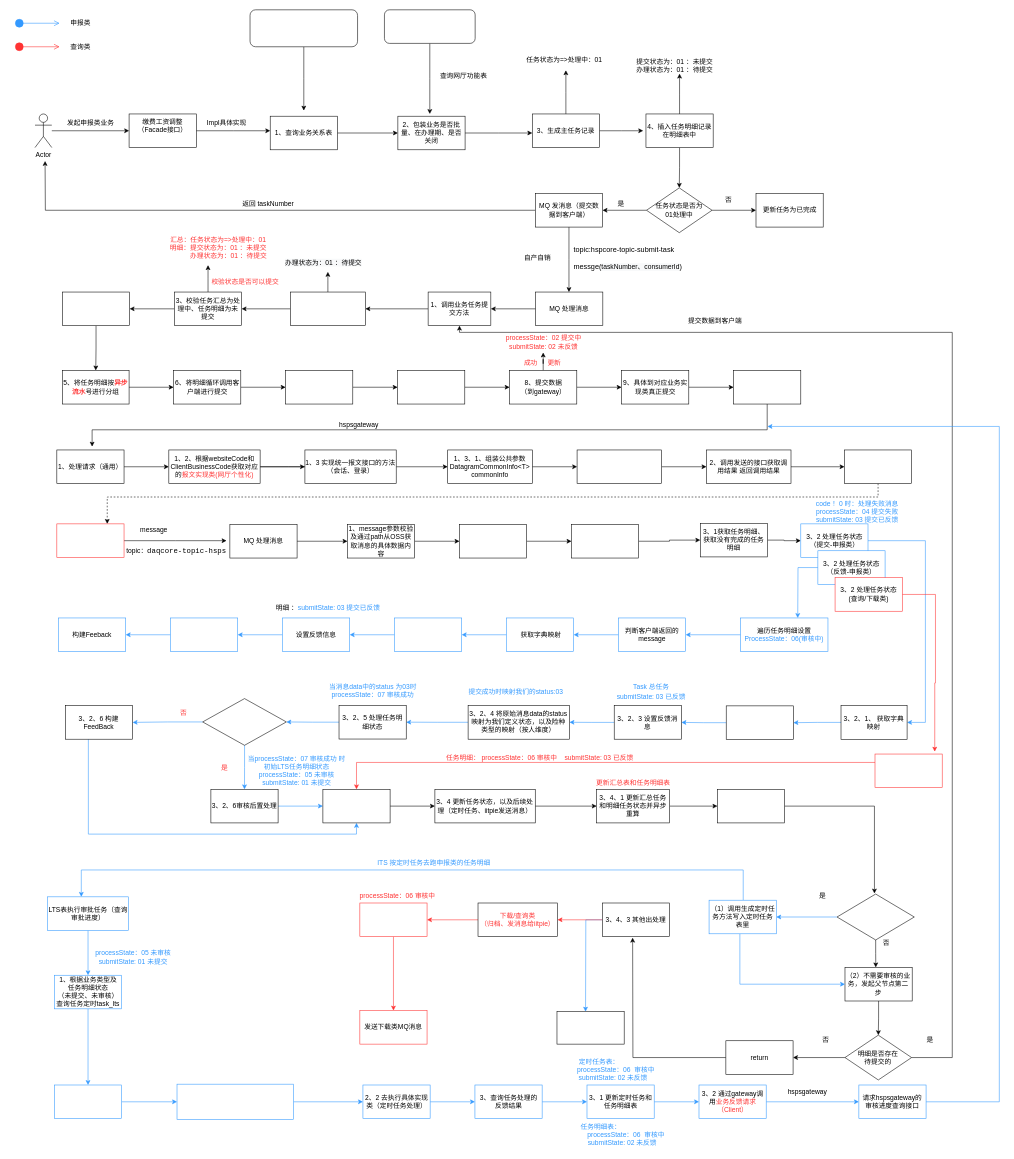
The diagram is 1014 pixels wide and 1159 high, and some of its shapes have lost their labels. Here are the shapes that lost their labels. From the top down, the centre of each, then its label:
the point at 303,28: 需要在 hpc_business_relationship 配置父子任务关系表数据
the point at 429,26: 需要在 hpc_website_business 网厅功能表配置
the point at 96,308: 4、分别得到任务汇总信息和任务明细信息
the point at 327,308: 2、根据taskNumber、consumerId查询所有待提交的 任务明细 进行提交
the point at 319,387: 7、处理v2提交的数据（明细）
the point at 431,387: 7、1根据业务类型区分，具体对应那个Hander
the point at 767,387: 10、Hspsgateway Facade客户端
the point at 619,466: 1、3、2、组装任意参数 transformedJsonObjList
the point at 878,466: 3、调用DaqcoreFace客户端接口
the point at 90,540: 当客户端把任务提交到成功到网厅则进行MQ消息
the point at 493,541: 2、任务处理器，通过websiteCode和ActionCode路由策略选择实现类
the point at 605,541: 3、路由到具体的实现来处理MQ返回的消息
the point at 204,634: 处理明细状态
the point at 428,634: 解析message.data(内容是以人维度的 身份证+姓名)
the point at 244,721: 任务明细是否需要审核 （发起TLS）
the point at 759,722: 3、2、3 解析message.data(内容是以人维度的)
the point at 908,770: 校验FilePath和 获取ObjectKey 设置明细状态
the point at 356,806: 3、3 父节点任务处理、主任务状态处理
the point at 751,806: 3、4、2 后续的业务处理操作
the point at 393,919: 发送消息给iitpie (不同业务下载有不同的实现类)
the point at 875,916: 是否存在需要审核 且未审核的业务
the point at 590,1027: 申报类（空实现）
the point at 88,1101: 2、根据获取的websiteBussineCode调用任务结果getResult()方法
the point at 234,1101: 2、1根据网厅code和网厅业务code去 路由到具体的实现类 （目前只有一种策略模式V2默认的）
